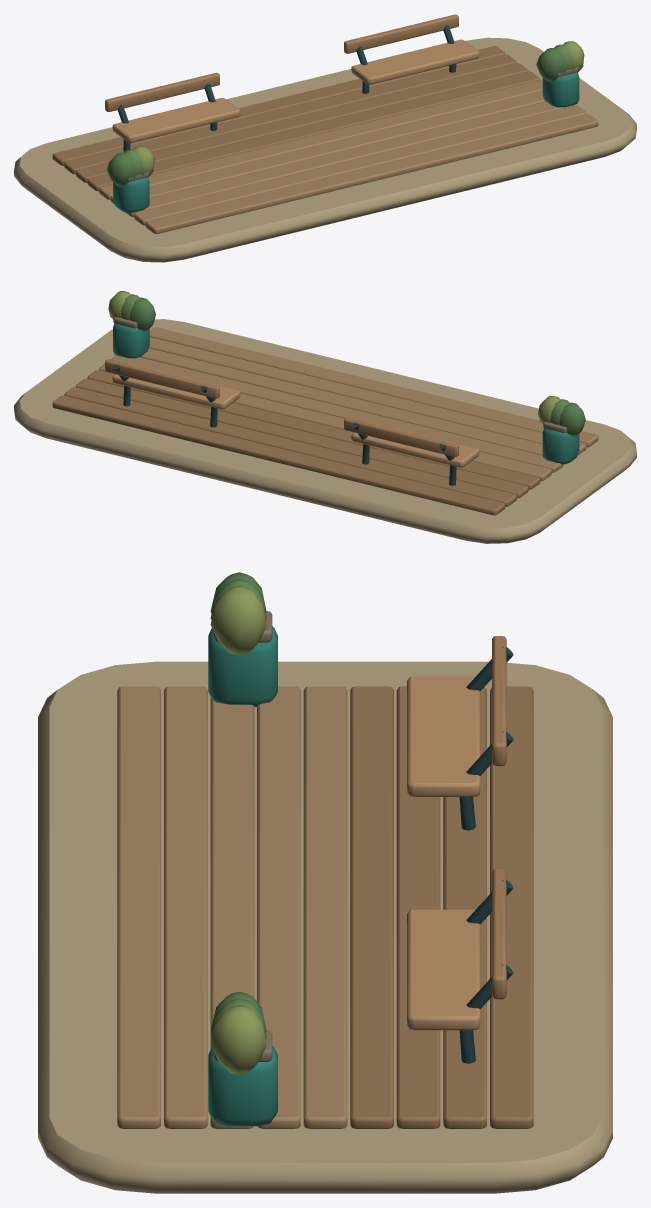
Rendered from overlook.glb.
3 views of the same model, one above another, from view 1: azimuth 30°, elevation 25°; view 2: azimuth 150°, elevation 25°; view 3: azimuth 270°, elevation 25° (orthographic). The views are drawn at different scales.
Visible parts, largest first — view 1: Overlook; view 2: Overlook; view 3: Overlook.
Part boxes in pixels (<box>): Overlook: <box>14,14,636,262</box>; Overlook: <box>14,291,636,543</box>; Overlook: <box>38,572,612,1193</box>.
Bounding box in the file's own units: 6.75 × 0.948 × 3.21.
